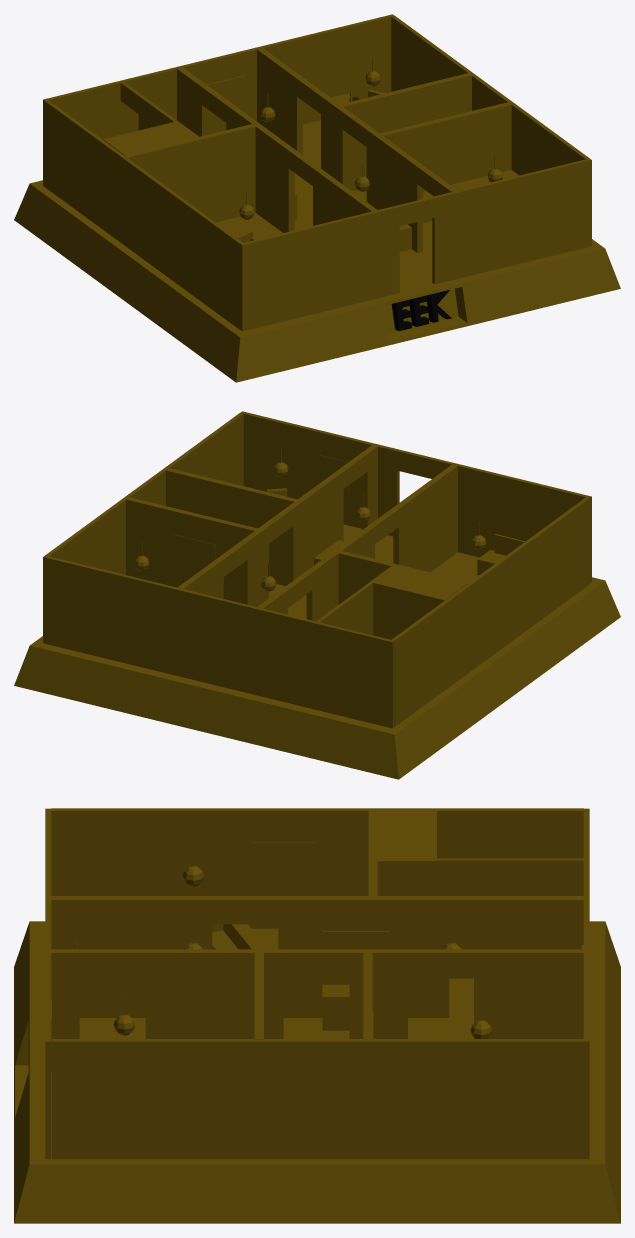
The model's file is TV_EEKModel.fbx.
3 views of the same model, one above another, from view 1: azimuth 30°, elevation 25°; view 2: azimuth 150°, elevation 25°; view 3: azimuth 270°, elevation 25° (orthographic). The views are drawn at different scales.
Visible parts, largest first — view 1: Cube; view 2: Cube; view 3: Cube.
Boxes of the visible parts, x1,y1,x2,y2 form: Cube: (14, 14, 620, 382); Cube: (14, 411, 620, 779); Cube: (14, 808, 620, 1223).
Size of the model in its own units: 48.21 by 14.95 by 48.21.
